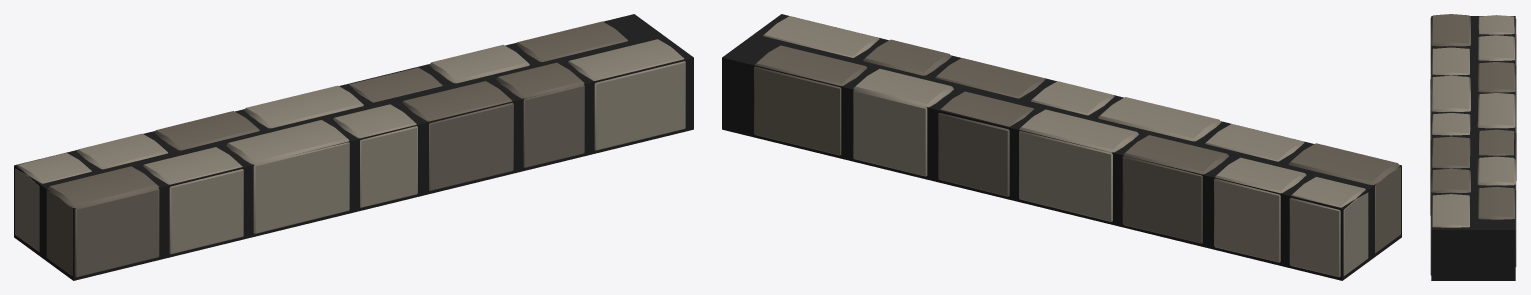
Rendered from channel_setts.glb.
3 views of the same model, side by side, from view 1: azimuth 30°, elevation 25°; view 2: azimuth 150°, elevation 25°; view 3: azimuth 270°, elevation 25° (orthographic). The views are drawn at different scales.
Parts seen in each view (by area): view 1: sett_sett_pale_worn, sett_sett_dull, mortar; view 2: sett_sett_pale_worn, sett_sett_dull, mortar; view 3: sett_sett_pale_worn, mortar, sett_sett_dull.
Boxes of the visible parts, bbox=[...] form: sett_sett_pale_worn: bbox=[15, 39, 685, 254]; sett_sett_dull: bbox=[46, 21, 627, 277]; mortar: bbox=[14, 14, 693, 280]; sett_sett_pale_worn: bbox=[763, 16, 1368, 277]; sett_sett_dull: bbox=[754, 39, 1400, 253]; mortar: bbox=[722, 14, 1401, 280]; sett_sett_pale_worn: bbox=[1430, 15, 1516, 275]; mortar: bbox=[1431, 16, 1515, 280]; sett_sett_dull: bbox=[1430, 14, 1516, 266].
Size of the model in its own units: 1.2 by 0.141 by 0.204.
